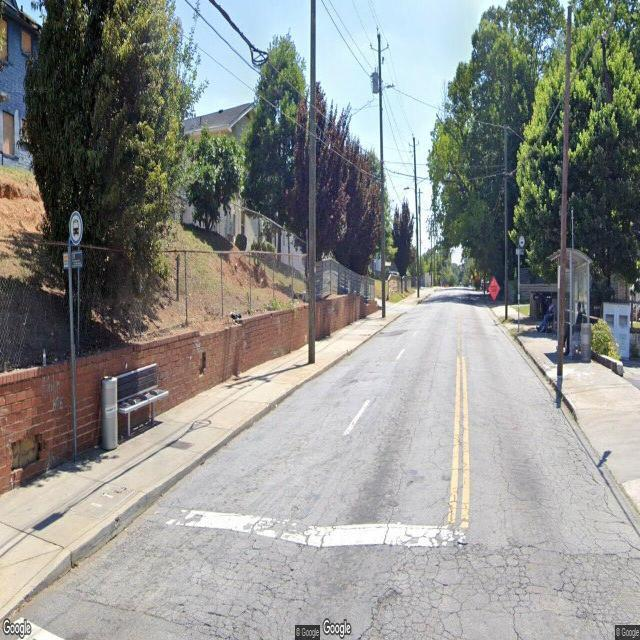seating: (115, 362, 169, 438), (564, 336, 582, 356)
shelter: (546, 248, 594, 360)
trash_can: (100, 376, 118, 450), (580, 323, 592, 363)
